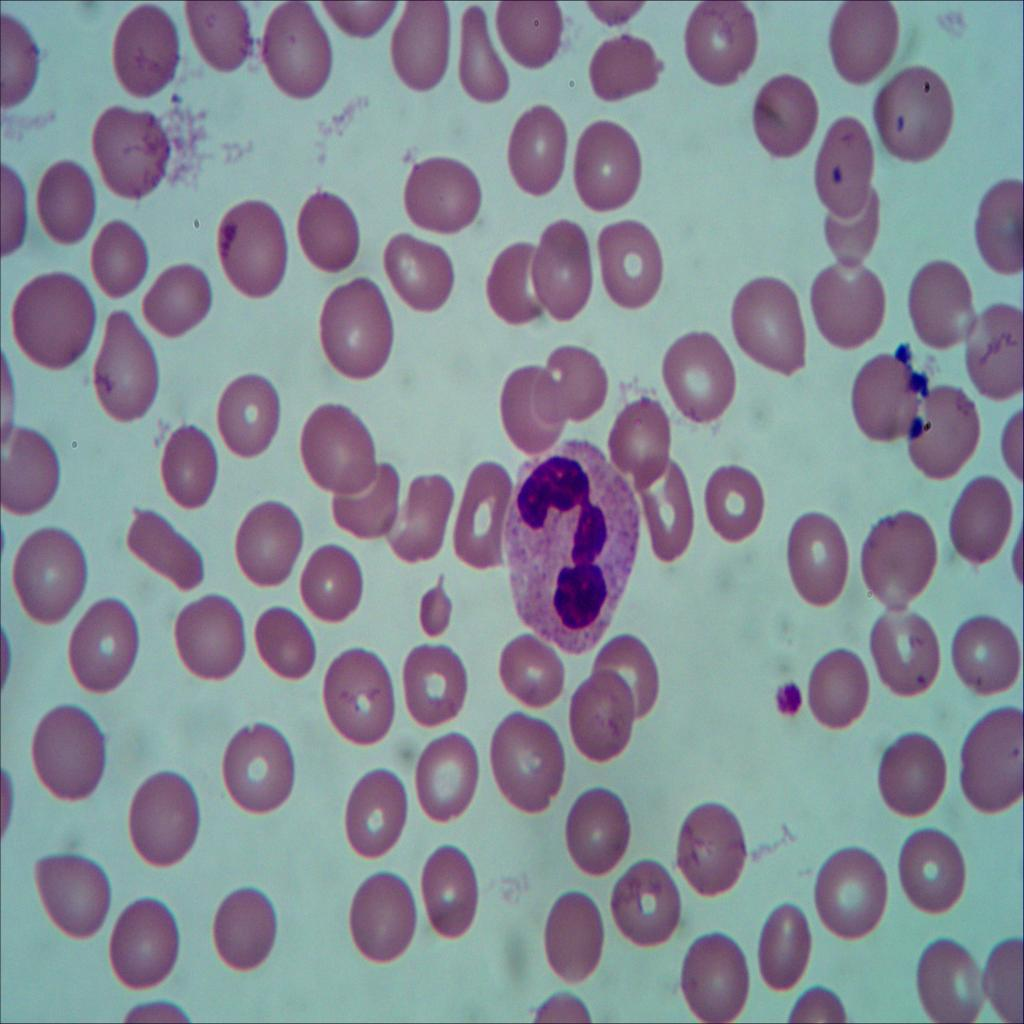Eritrosit: (4, 270, 104, 382), (306, 268, 400, 384), (31, 839, 116, 955), (725, 271, 811, 384), (310, 638, 399, 746), (160, 587, 254, 688), (90, 306, 165, 431), (664, 926, 758, 1024), (566, 114, 655, 217), (85, 102, 175, 203), (852, 514, 940, 617), (27, 701, 113, 806), (878, 65, 962, 171), (490, 712, 572, 820), (812, 839, 893, 947), (866, 722, 954, 820), (842, 344, 927, 444), (102, 890, 185, 992), (660, 327, 743, 428), (125, 768, 203, 874), (256, 0, 334, 105), (398, 152, 490, 240), (808, 254, 892, 350), (214, 200, 292, 303), (412, 842, 488, 947), (775, 518, 856, 616), (118, 502, 206, 592), (576, 28, 670, 112), (344, 868, 417, 976), (221, 717, 299, 818), (630, 454, 700, 566), (899, 385, 982, 479), (913, 930, 996, 1024), (864, 602, 942, 702), (945, 300, 1024, 398), (298, 401, 382, 493), (674, 801, 751, 901), (901, 257, 981, 352), (229, 500, 308, 596), (378, 227, 465, 314), (604, 858, 682, 955), (68, 596, 140, 701), (13, 528, 92, 623), (108, 3, 184, 100), (681, 0, 761, 92), (752, 896, 822, 1001), (380, 0, 458, 94), (244, 600, 320, 696), (534, 891, 608, 989), (587, 628, 661, 725), (595, 222, 673, 314), (174, 0, 256, 87), (208, 882, 278, 983), (341, 764, 412, 863), (504, 104, 574, 204), (899, 825, 974, 918), (411, 730, 485, 824), (290, 190, 370, 276), (694, 463, 775, 547), (448, 6, 516, 106), (537, 341, 615, 428), (950, 472, 1019, 570), (800, 649, 879, 734), (946, 612, 1024, 698), (825, 0, 899, 90), (559, 783, 632, 874), (809, 114, 875, 214), (529, 222, 597, 319), (139, 264, 223, 342), (158, 420, 227, 514), (327, 458, 403, 543), (396, 636, 470, 723), (963, 704, 1024, 809), (389, 470, 456, 564), (452, 464, 511, 570), (816, 180, 882, 274), (751, 72, 818, 164), (478, 239, 551, 322), (614, 392, 678, 486), (215, 379, 286, 463), (570, 674, 637, 761), (296, 549, 365, 630), (502, 364, 564, 454), (497, 0, 570, 75), (89, 219, 158, 298), (0, 426, 59, 518), (974, 174, 1024, 282), (488, 637, 564, 706), (34, 157, 96, 241), (414, 568, 455, 637)
Neutrofil: (506, 431, 643, 660)
Platelet: (776, 674, 810, 723), (825, 158, 852, 194), (889, 111, 913, 144)
